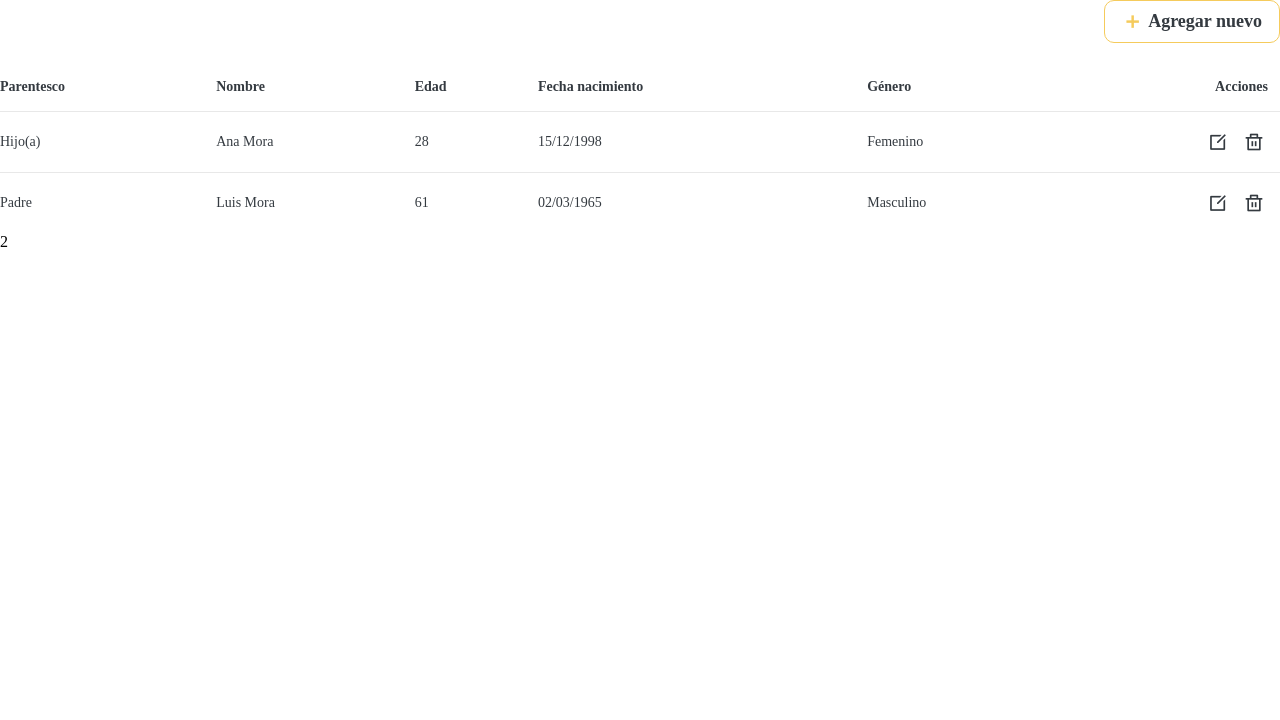
Test: Family (paso 2) › removes a member and confirms with a notification
Click the button named "Eliminar Luis Mora".
click(1254, 203)  # box [1240, 189, 1268, 217]
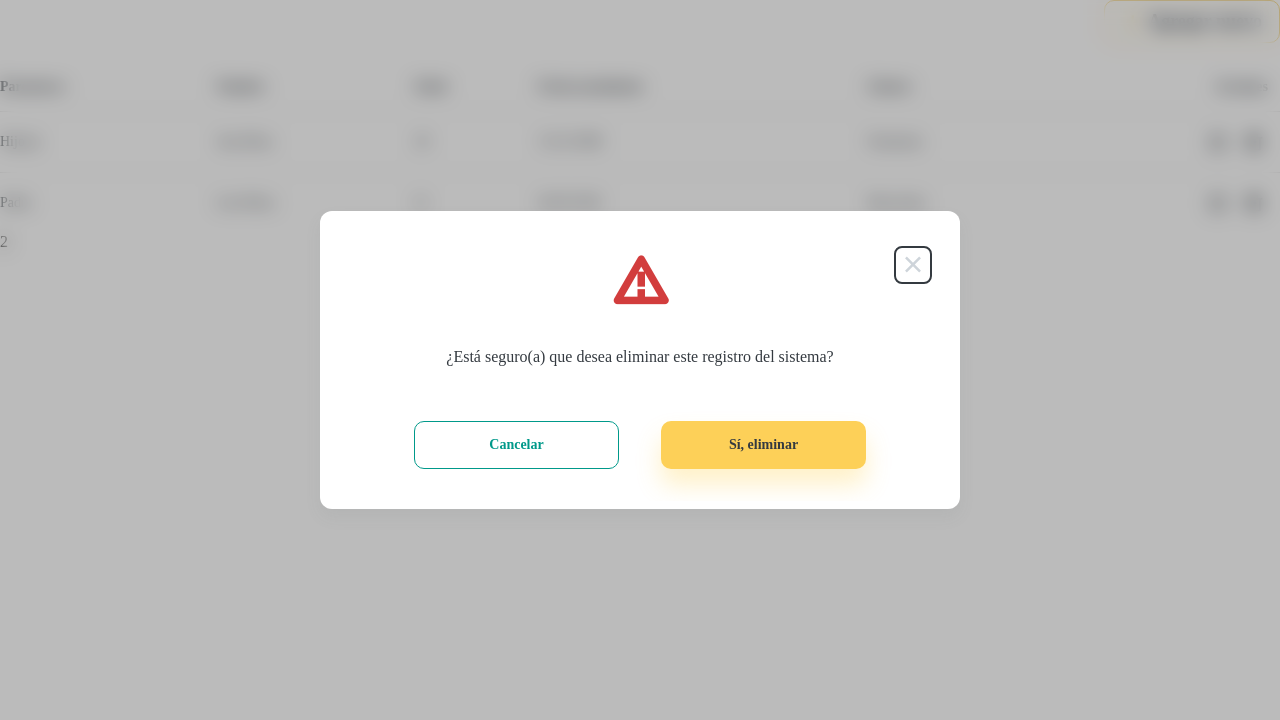
Click the button "Sí, eliminar".
click(764, 445)  # box [661, 421, 866, 469]
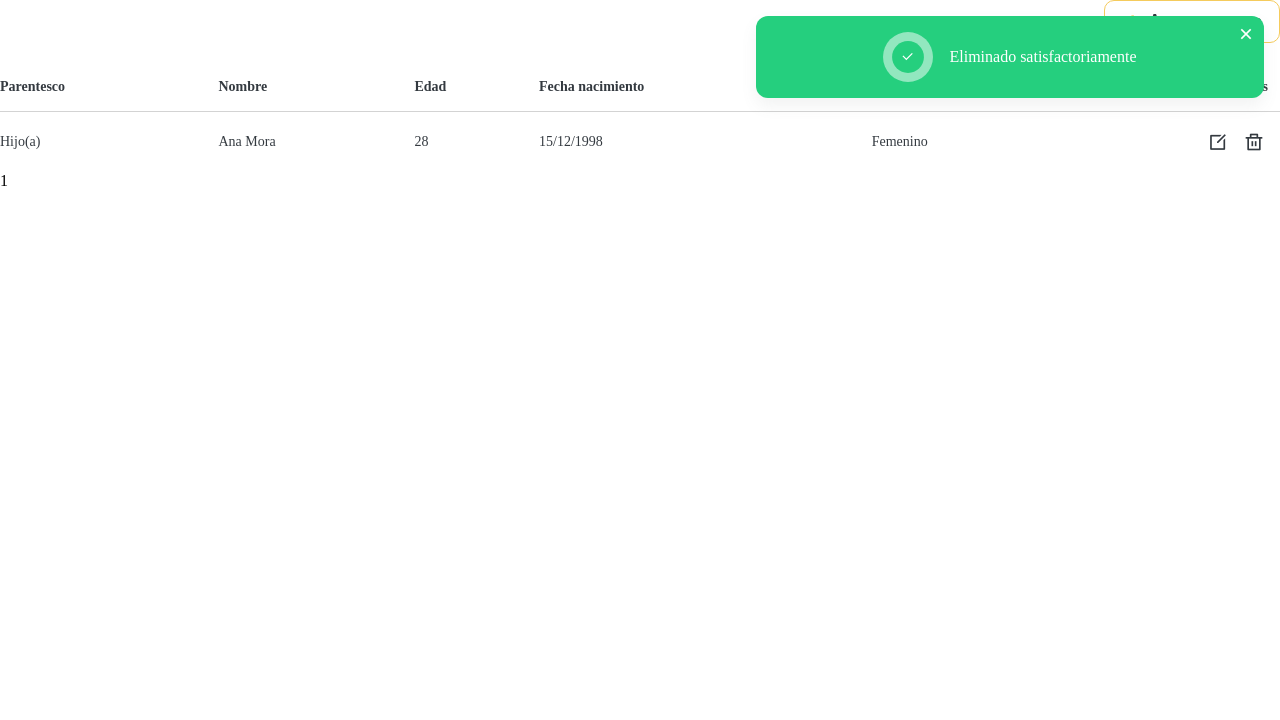
Result: the text "Luis Mora" is gone
Result: the text with test id "count" reads "1" at [0, 172, 8, 189]
Result: the text "Eliminado satisfactoriamente" is shown at [950, 47, 1136, 67]
